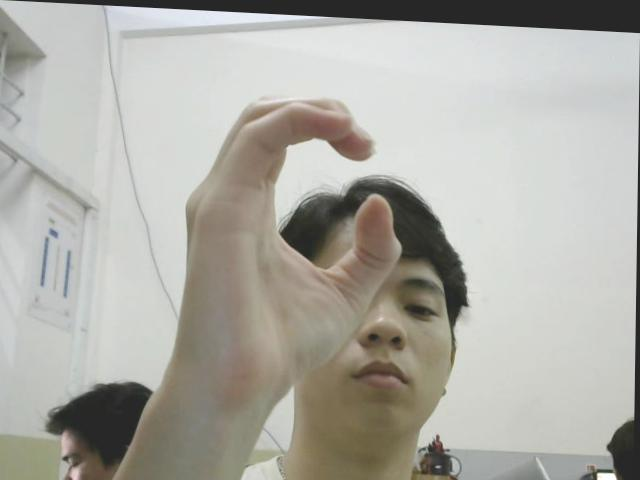C: (182, 82, 404, 403)
